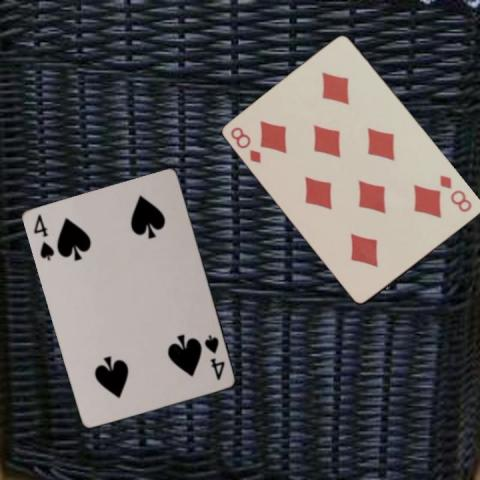4s: (201, 332, 227, 382), (31, 211, 56, 263)
8d: (437, 171, 474, 214), (228, 124, 263, 165)
